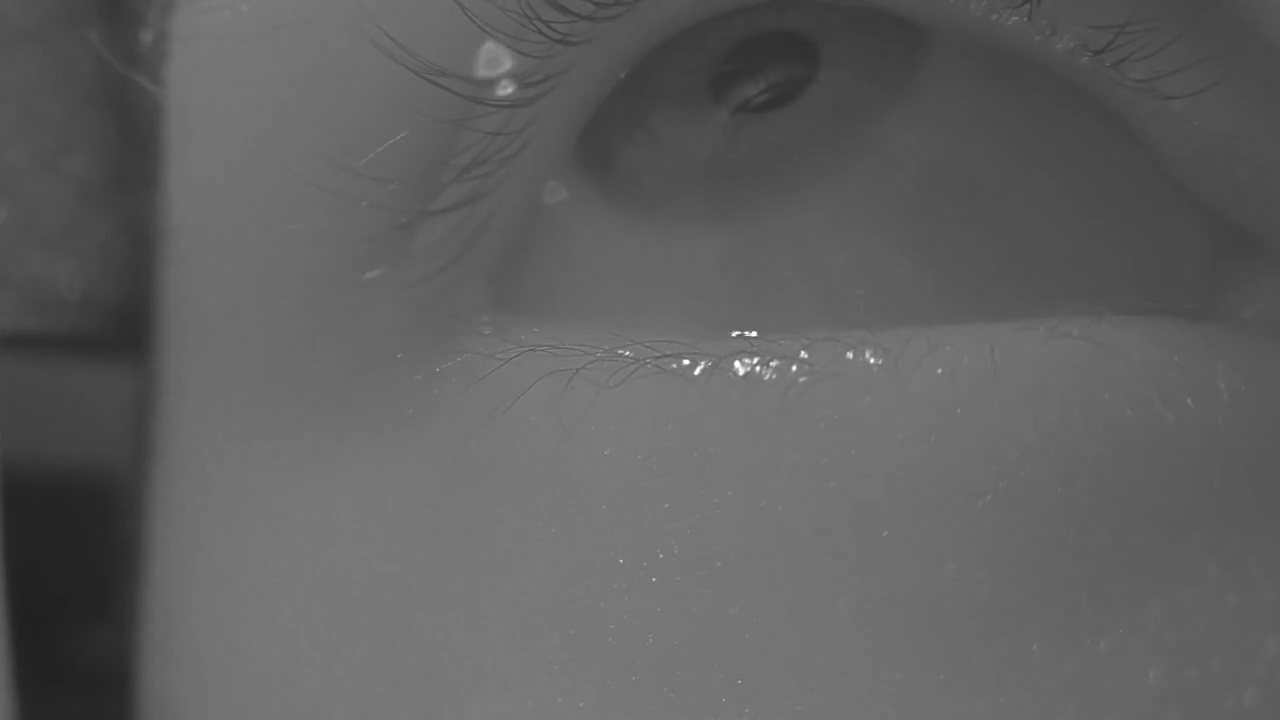pupil: (710, 30, 818, 114)
